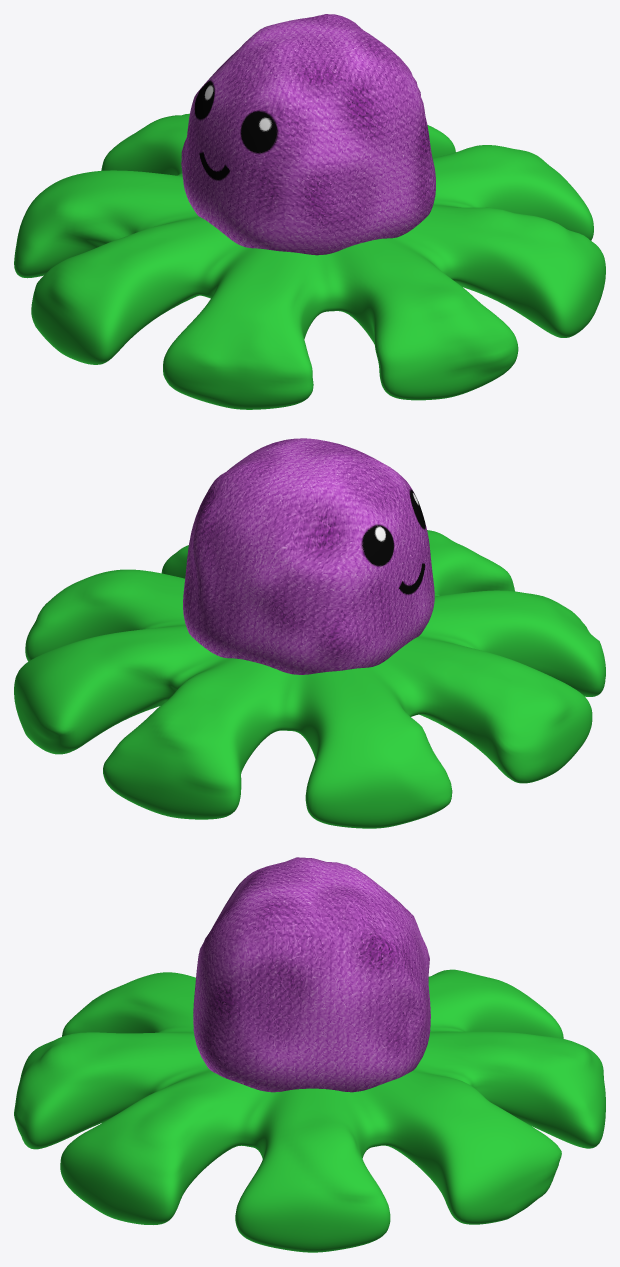
Rendered from osminog 1.fbx.
3 views of the same model, one above another, from view 1: azimuth 30°, elevation 25°; view 2: azimuth 150°, elevation 25°; view 3: azimuth 270°, elevation 25° (orthographic).
Visible parts, largest first — view 1: bozhka; view 2: bozhka; view 3: bozhka.
Boxes of the visible parts, bbox=[...] form: bozhka: bbox=[14, 14, 605, 409]; bozhka: bbox=[14, 438, 605, 828]; bozhka: bbox=[14, 857, 605, 1252].
Size of the model in its own units: 524 by 255 by 528.
